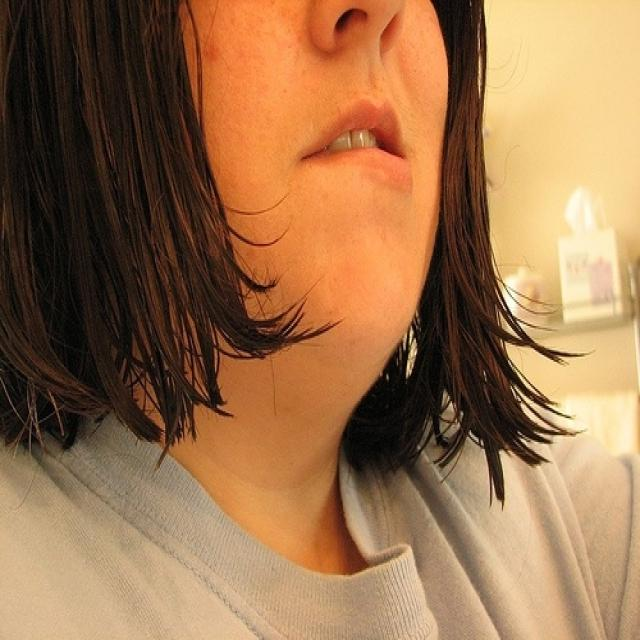piel: (167, 0, 448, 579)
